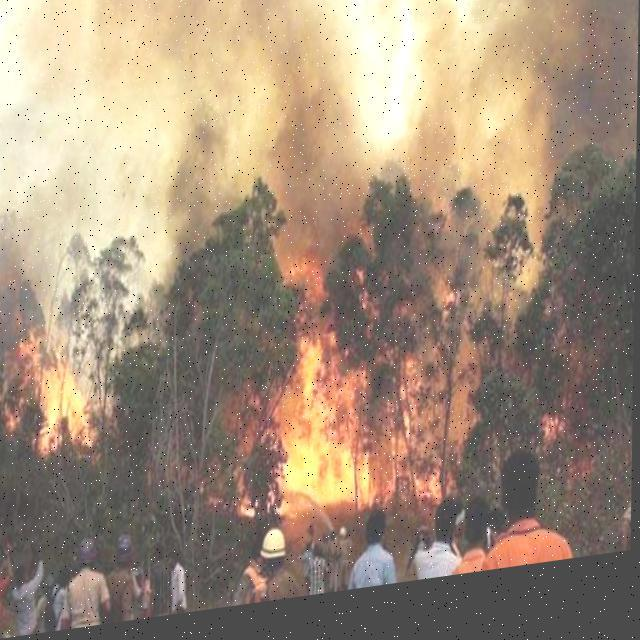Fire: (246, 256, 454, 532), (9, 331, 128, 464)
